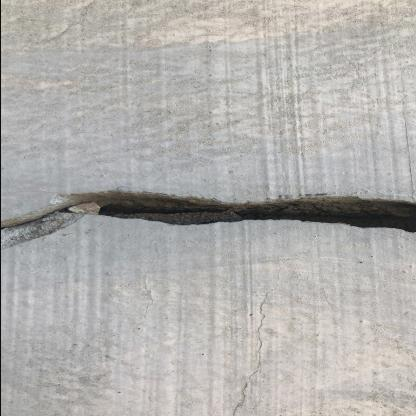crack: (0, 195, 416, 234)
